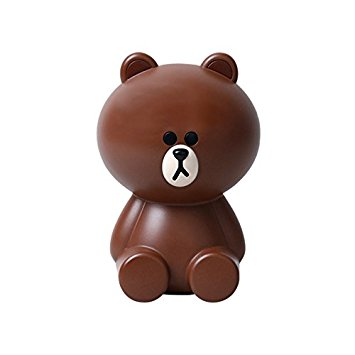line_brown: (92, 45, 268, 210)
